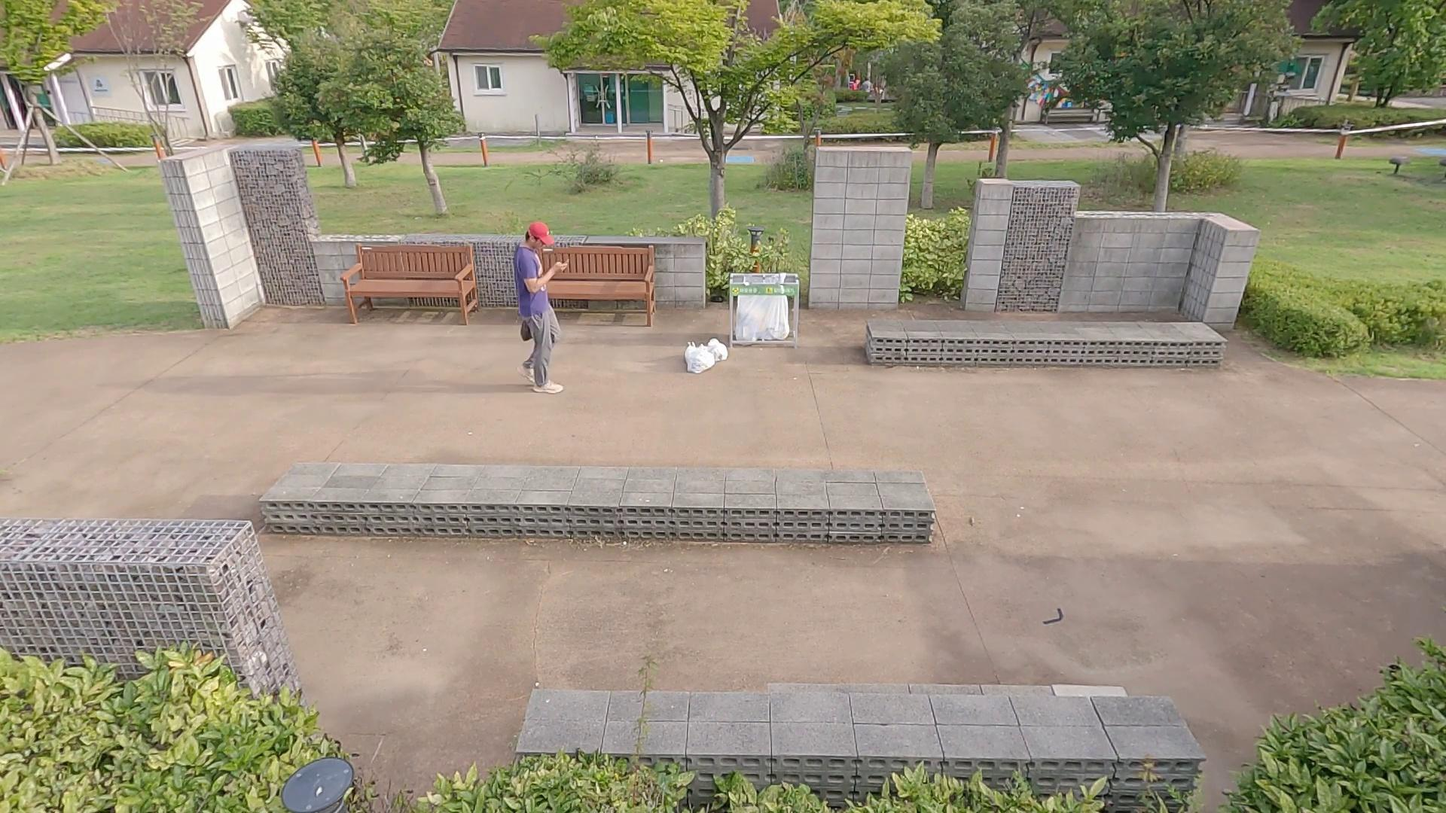person: (512, 220, 569, 395)
trash: (688, 347, 715, 374), (685, 340, 706, 367), (707, 338, 728, 360), (520, 320, 536, 344)
